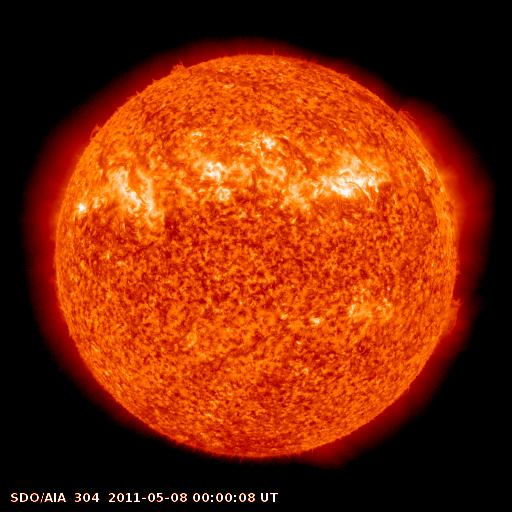prominence: (390, 97, 434, 153), (431, 293, 474, 347), (162, 53, 199, 82), (83, 116, 113, 145)
